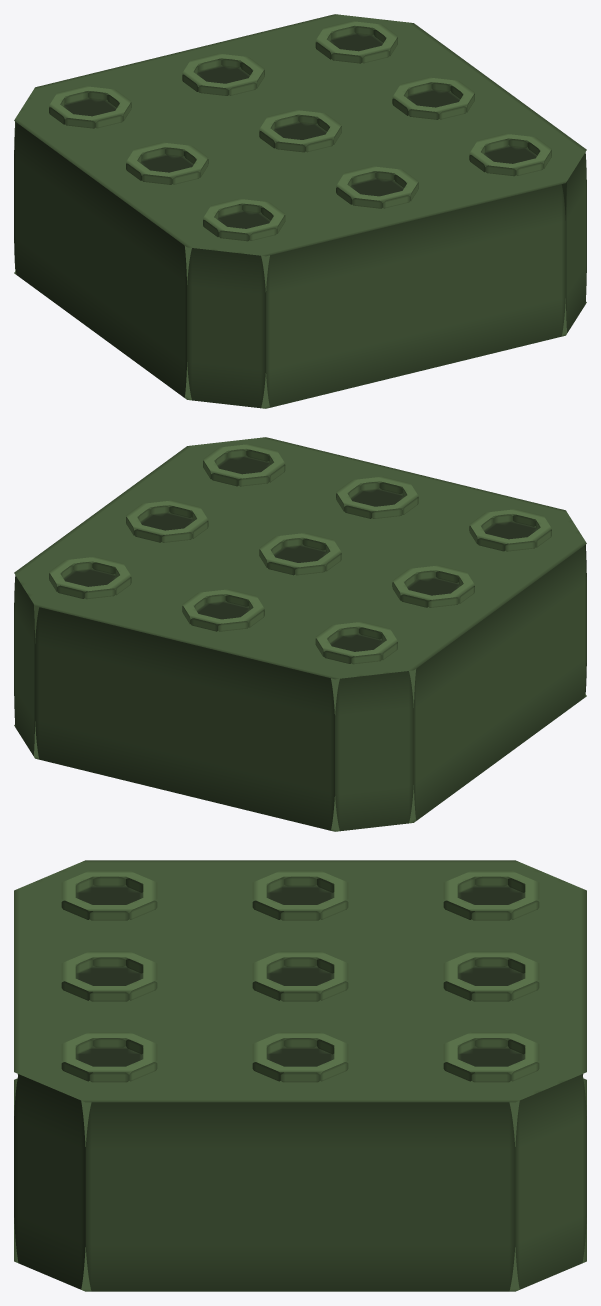
Rendered from spiketrap.fbx.
The picture shows the model from 3 angles, top to bottom: view 1: azimuth 30°, elevation 25°; view 2: azimuth 150°, elevation 25°; view 3: azimuth 270°, elevation 25°; orthographic projection. The views are drawn at different scales.
Parts seen in each view (by area): view 1: beveled_cuboid, tube_5, tube_3, tube_2, tube_7, tube_8, tube_1, tube, tube_6, tube_4; view 2: beveled_cuboid, tube_7, tube_3, tube_4, tube_5, tube_6, tube_1, tube, tube_8, tube_2; view 3: beveled_cuboid, tube_3, tube_6, tube_8, tube_1, tube_5, tube_7, tube, tube_2, tube_4.
Part boxes in pixels (x1=…): beveled_cuboid: x1=14, y1=14, x2=586, y2=408; tube_5: x1=49, y1=86, x2=131, y2=128; tube_3: x1=392, y1=77, x2=474, y2=119; tube_2: x1=336, y1=166, x2=418, y2=208; tube_7: x1=203, y1=198, x2=285, y2=241; tube_8: x1=469, y1=133, x2=551, y2=176; tube_1: x1=126, y1=142, x2=208, y2=184; tube: x1=259, y1=110, x2=341, y2=152; tube_6: x1=315, y1=21, x2=397, y2=63; tube_4: x1=182, y1=53, x2=264, y2=95; beveled_cuboid: x1=14, y1=437, x2=586, y2=831; tube_7: x1=469, y1=509, x2=551, y2=551; tube_3: x1=126, y1=500, x2=208, y2=542; tube_4: x1=182, y1=589, x2=264, y2=631; tube_5: x1=315, y1=621, x2=397, y2=664; tube_6: x1=49, y1=556, x2=131, y2=599; tube_1: x1=392, y1=565, x2=474, y2=607; tube: x1=259, y1=533, x2=341, y2=575; tube_8: x1=203, y1=444, x2=285, y2=486; tube_2: x1=336, y1=476, x2=418, y2=518; beveled_cuboid: x1=14, y1=860, x2=586, y2=1291; tube_3: x1=252, y1=1032, x2=348, y2=1082; tube_6: x1=443, y1=1032, x2=539, y2=1082; tube_8: x1=61, y1=1032, x2=157, y2=1082; tube_1: x1=252, y1=870, x2=348, y2=920; tube_5: x1=443, y1=870, x2=539, y2=920; tube_7: x1=61, y1=870, x2=157, y2=920; tube: x1=252, y1=951, x2=348, y2=1001; tube_2: x1=61, y1=951, x2=157, y2=1001; tube_4: x1=443, y1=951, x2=539, y2=1001.
Bounding box in the file's own units: 150 × 57.5 × 150.
Materials: 1 (1 with a texture image).
